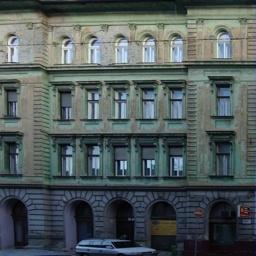building: (2, 0, 256, 256)
